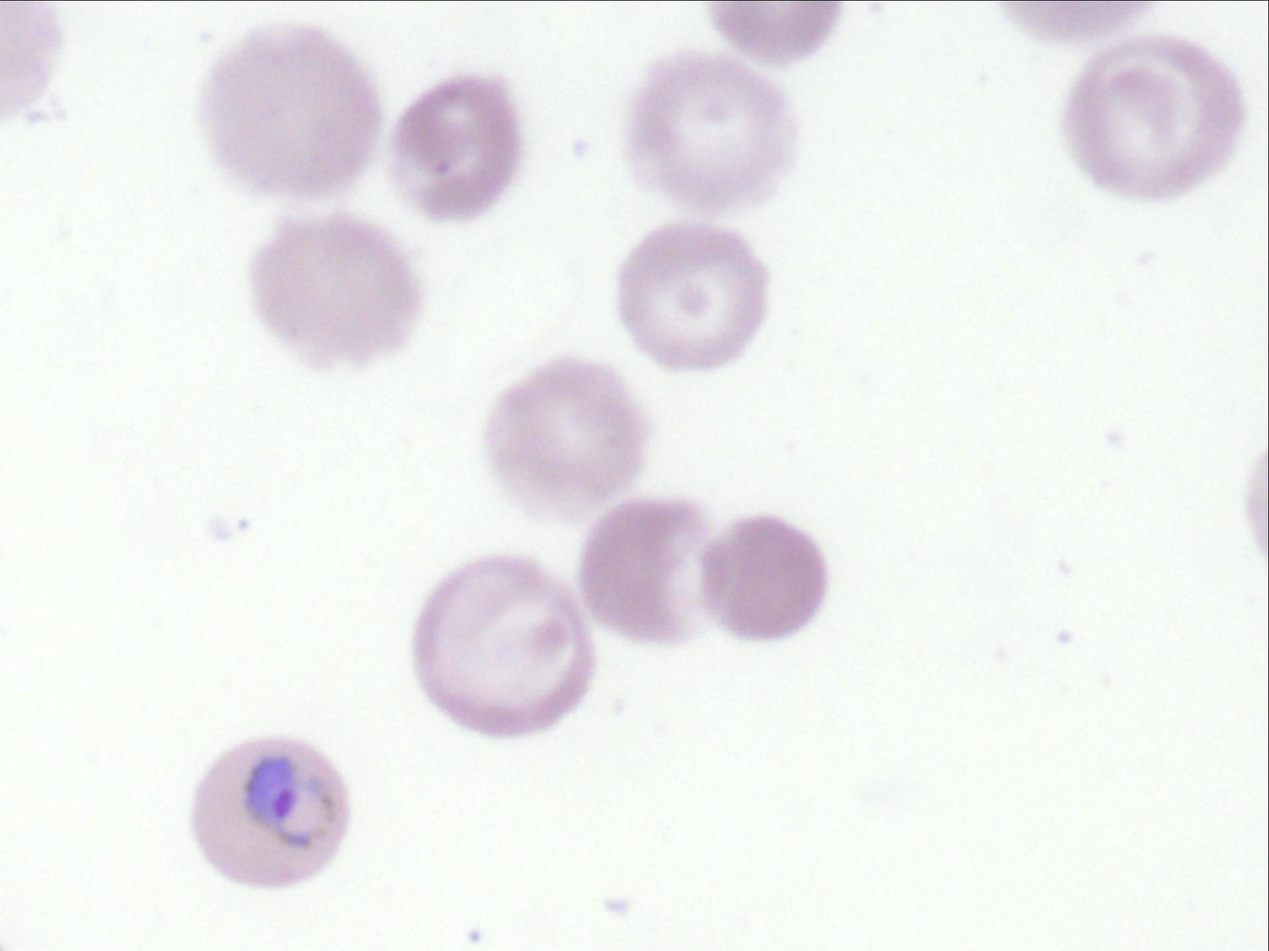Infected: (190, 734, 346, 888)
Uninfected: (411, 559, 594, 734), (1059, 33, 1246, 197), (200, 27, 375, 195), (633, 50, 800, 208), (250, 210, 414, 370), (484, 356, 646, 511), (615, 223, 770, 371), (578, 493, 726, 647), (392, 78, 519, 222), (699, 517, 824, 641)
